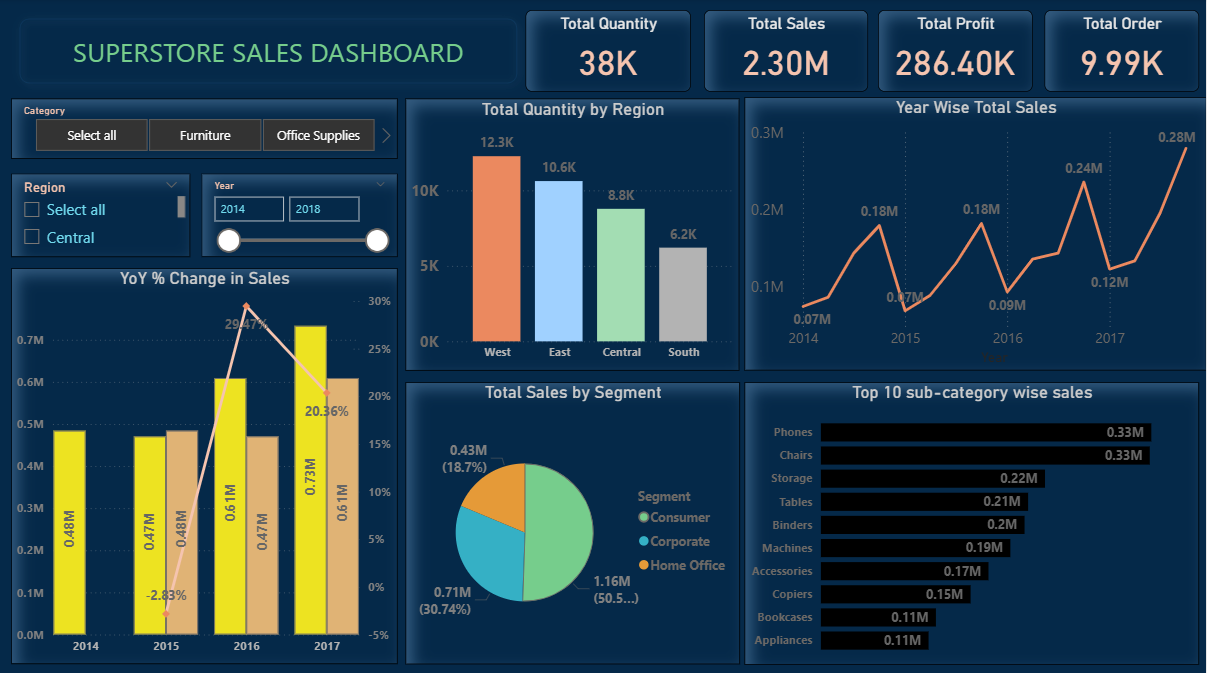

Layout of this report page (visuals, bound fields, positions):
{"tool":"powerbi","page":{"name":"DASHBOARD","canvas":[1280,720],"ordinal":0},"visuals":[{"type":"pieChart","title":"Total Sales by Segment","fields":{"Category":["Sample - Superstore.Segment"],"Y":["Sum(Sample - Superstore.Sales)"]},"box":[431.1,407.2,354.7,299],"z":0},{"type":"clusteredBarChart","title":"Top 10 sub-category wise sales ","fields":{"Category":["Sample - Superstore.Sub-Category"],"Y":["Sum(Sample - Superstore.Sales)"]},"box":[790.2,406.6,482,300],"z":1000},{"type":"lineChart","title":"Year Wise Total Sales","fields":{"Category":["Calendar_Date.Date.Variation.Date Hierarchy.Year","Calendar_Date.Date.Variation.Date Hierarchy.Quarter","Calendar_Date.Date.Variation.Date Hierarchy.Month"],"Y":["Sum(Sample - Superstore.Sales)"]},"box":[790.2,104.9,490.2,290.2],"z":2000},{"type":"card","title":"Total Sales","fields":{"Values":["Sum(Sample - Superstore.Sales)"]},"box":[747.5,13.1,173.8,86.9],"z":3000},{"type":"card","title":"Total Profit","fields":{"Values":["Sum(Sample - Superstore.Profit)"]},"box":[932.8,13.1,163.9,86.9],"z":4000},{"type":"card","title":"Total Quantity","fields":{"Values":["Sum(Sample - Superstore.Quantity)"]},"box":[559,13.1,175.4,86.9],"z":5000},{"type":"card","title":"Total Order","fields":{"Values":["CountNonNull(Sample - Superstore.Order ID)"]},"box":[1108.2,13.1,163.9,86.9],"z":6000},{"type":"columnChart","title":"Total Quantity by Region","fields":{"Category":["Sample - Superstore.Region"],"Y":["Sum(Sample - Superstore.Quantity)"]},"box":[431.1,106.6,354.1,288.5],"z":7000},{"type":"lineClusteredColumnComboChart","title":"YoY % Change in Sales","fields":{"Y":["Sum(Sample - Superstore.Sales)","Calendar_Date.Last year sales"],"Category":["Calendar_Date.Date.Variation.Date Hierarchy.Year"],"Y2":["Calendar_Date.Sum of Sales YoY%"]},"box":[13.1,286.9,409.8,419.7],"z":8000},{"type":"slicer","title":"Total Quantity by Region","fields":{"Values":["Calendar_Date.Date.Variation.Date Hierarchy.Year"]},"box":[214.8,186.9,208.2,88.5],"z":9000},{"type":"slicer","title":"Total Quantity by Region","fields":{"Values":["Sample - Superstore.Region"]},"box":[13.1,186.9,190.2,88.5],"z":10000},{"type":"slicer","title":"Total Quantity by Region","fields":{"Values":["Sample - Superstore.Category"]},"box":[13.1,106.6,409.8,63.9],"z":11000},{"type":"shape","box":[13.1,13.1,545.9,86.9],"z":12000}]}

Visuals, with their boxes in screenshot pixels (x1, y1, x2, y2), scaled from the page's 1280x720 canvas onto the 1207x673 screenshot:
"Total Sales by Segment" pieChart: select_region(407, 381, 741, 660)
"Top 10 sub-category wise sales " clusteredBarChart: select_region(745, 380, 1200, 660)
"Year Wise Total Sales" lineChart: select_region(745, 98, 1206, 369)
"Total Sales" card: select_region(705, 12, 869, 93)
"Total Profit" card: select_region(880, 12, 1034, 93)
"Total Quantity" card: select_region(527, 12, 693, 93)
"Total Order" card: select_region(1045, 12, 1200, 93)
"Total Quantity by Region" columnChart: select_region(407, 100, 740, 369)
"YoY % Change in Sales" lineClusteredColumnComboChart: select_region(12, 268, 399, 660)
"Total Quantity by Region" slicer: select_region(203, 175, 399, 257)
"Total Quantity by Region" slicer: select_region(12, 175, 192, 257)
"Total Quantity by Region" slicer: select_region(12, 100, 399, 159)
shape: select_region(12, 12, 527, 93)
